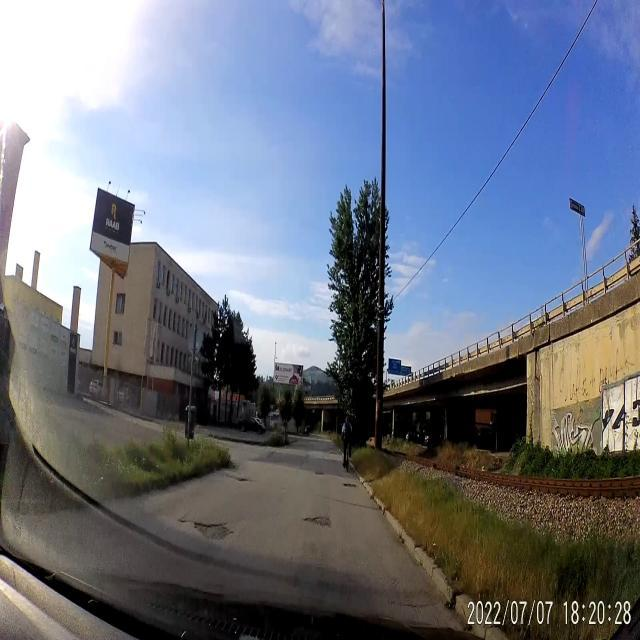Manhole: (342, 479, 358, 493)
Pothole: (188, 516, 236, 544), (302, 509, 337, 536), (228, 467, 250, 495), (313, 468, 326, 478)
